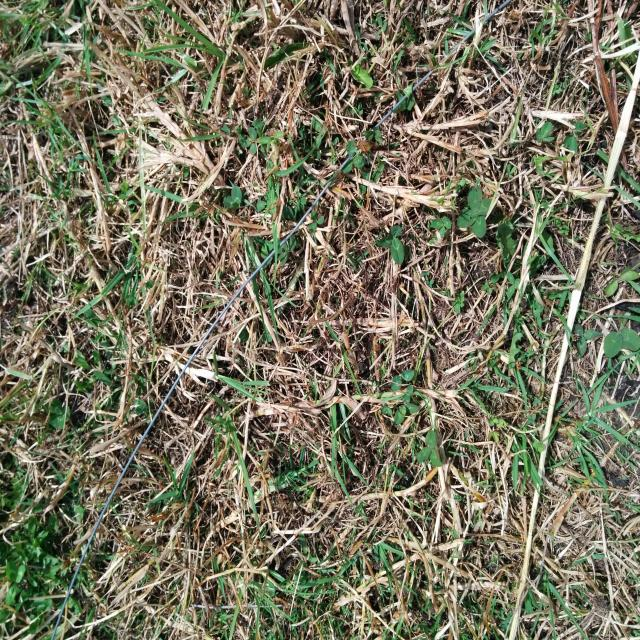Four Leaf Clover: (458, 186, 497, 237)
